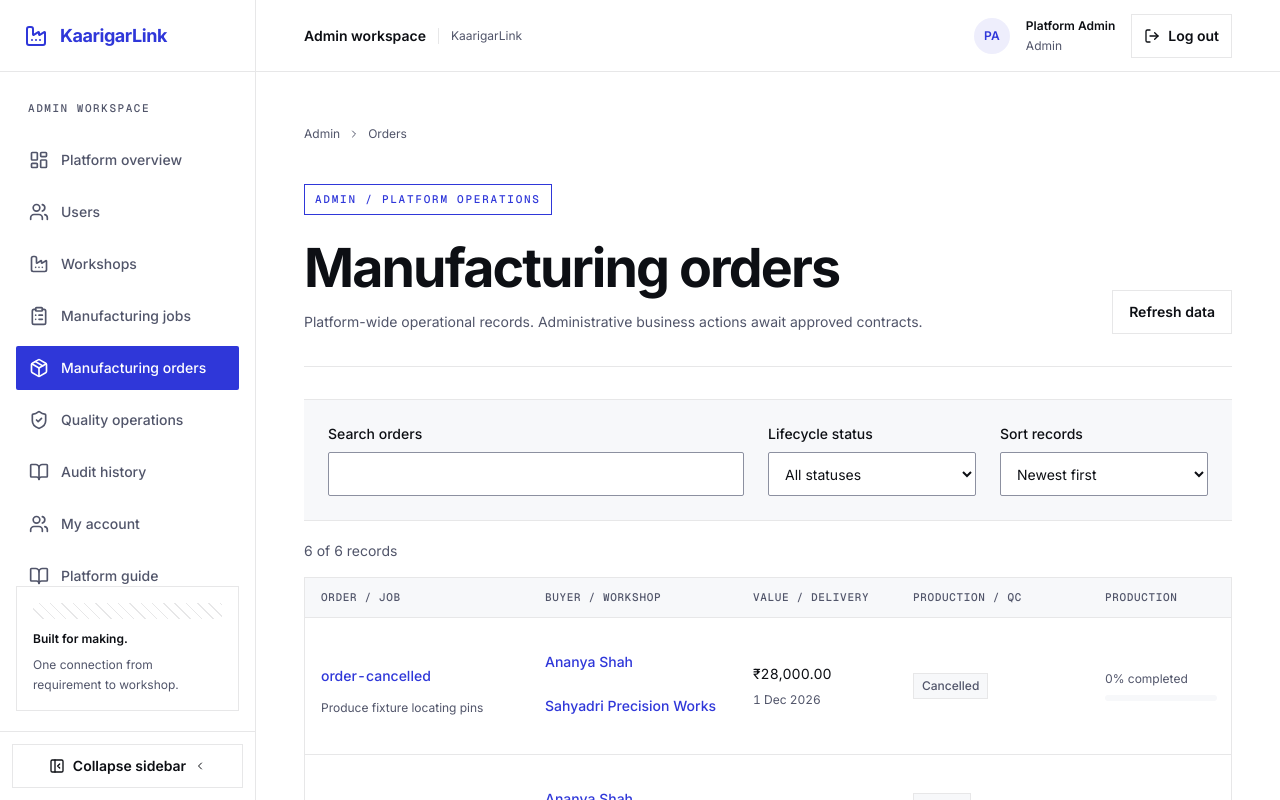
Test case: clears empty search results and retains native keyboard links
Expected: the text "6 of 6 records" is shown, [304,542,397,559]
Type "no-such-order" into the search field labelled "Search orders" at (536, 474), box [328,452,744,496]
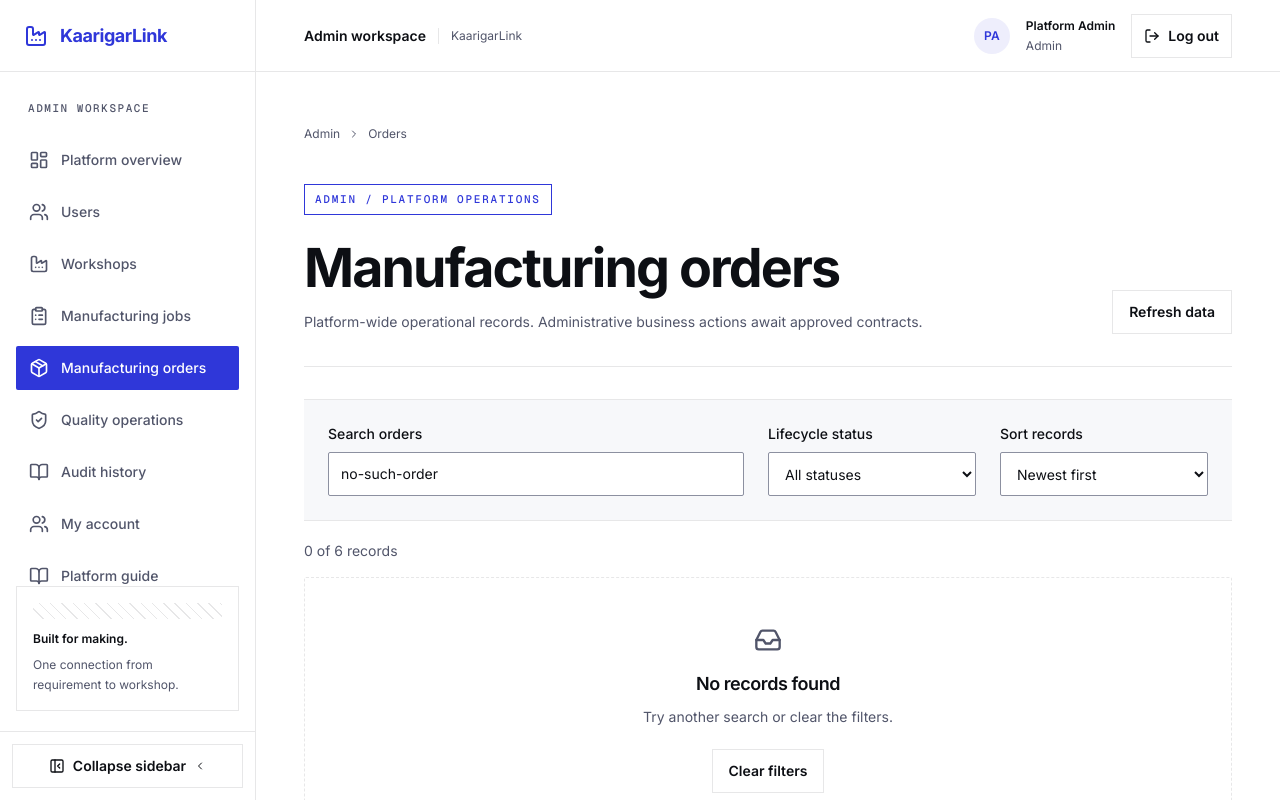
Result: the heading "No records found" is shown at [696,673,840,694]
Click the button "Clear filters" at (768, 771), box [712,749,824,793]
(page scrolled)
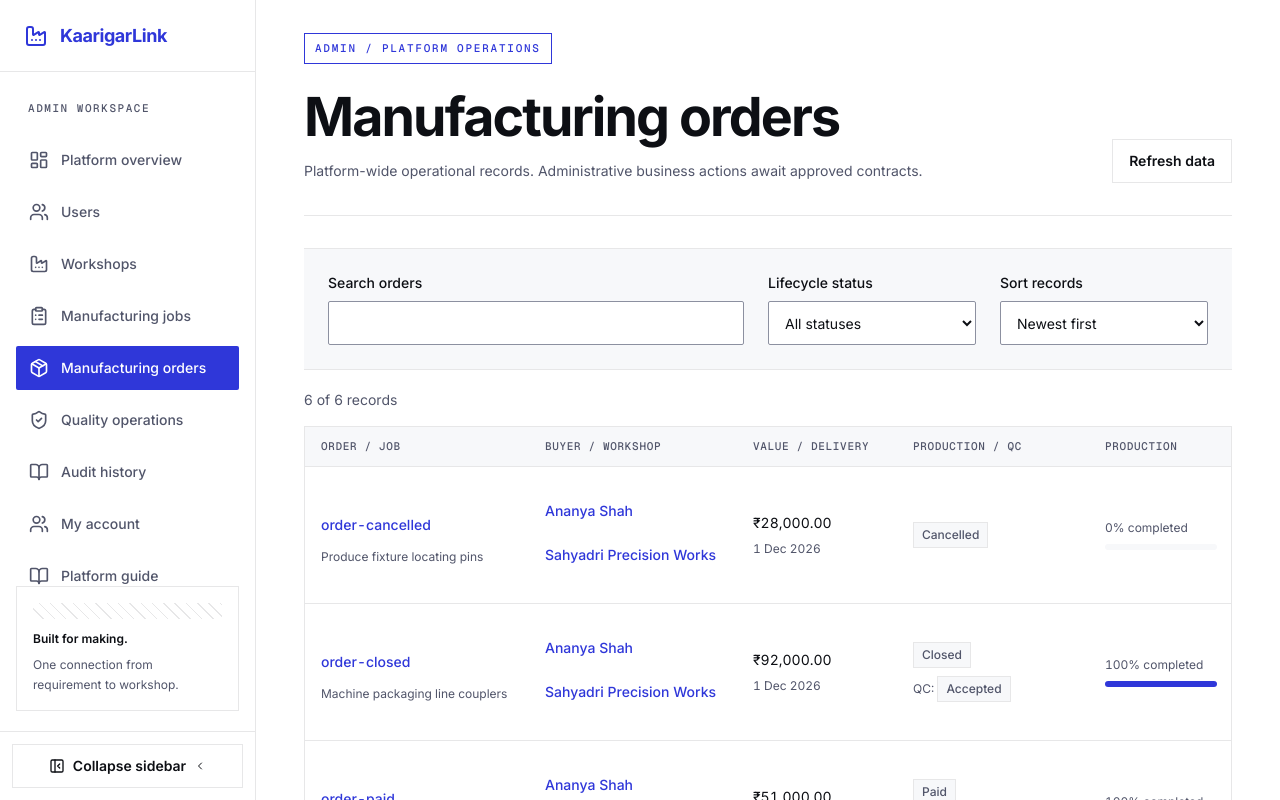
Result: the text "6 of 6 records" is shown at [304,391,397,408]
Press Enter
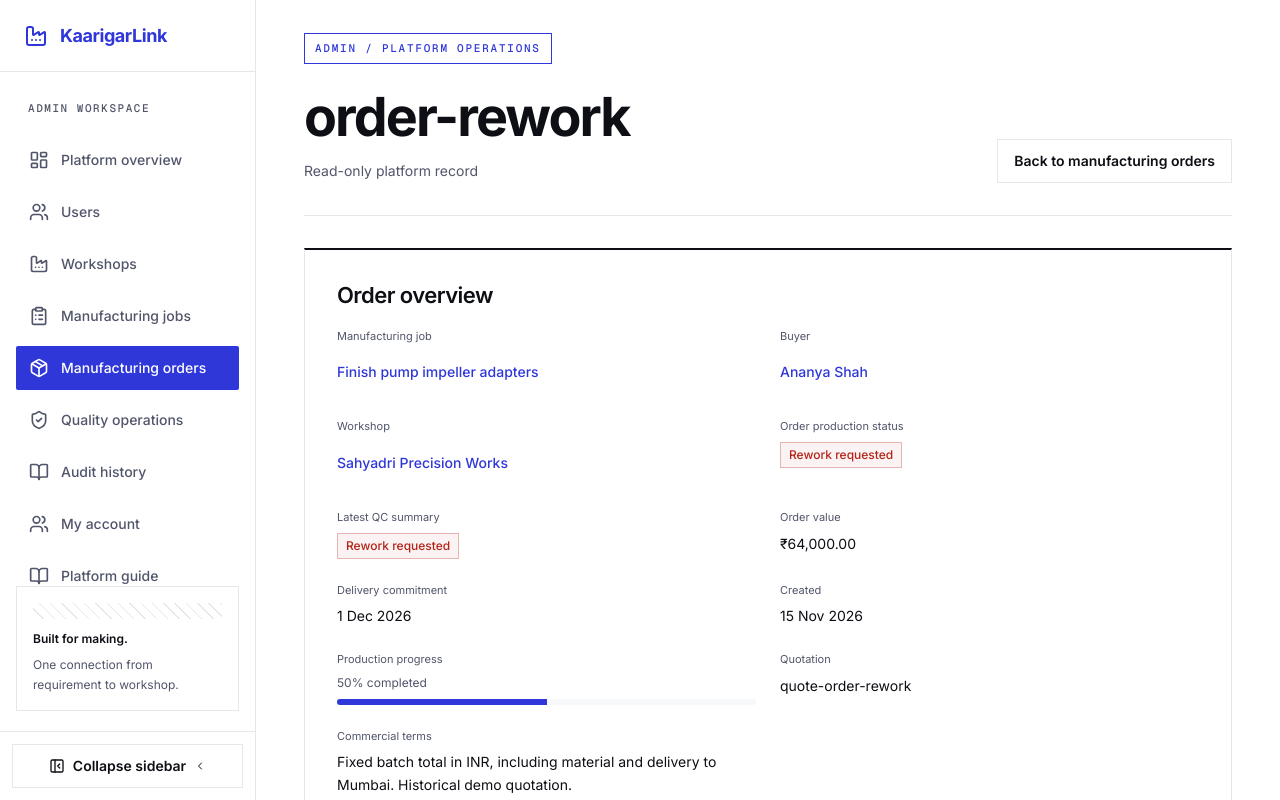
Result: the heading "order-rework" is shown at [304,88,630,144]
